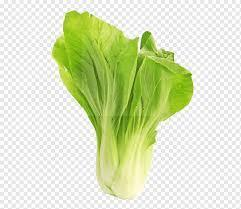Healthy-Pechay: (50, 23, 190, 199)
